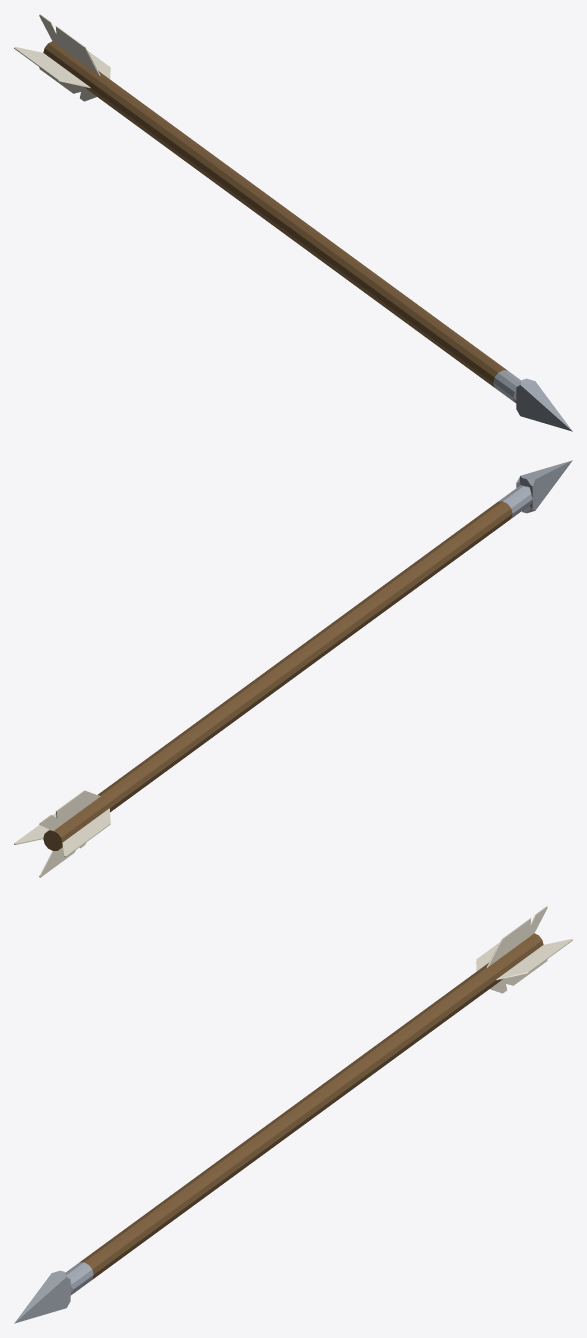
Rendered from Arrow.fbx.
3 renders of one model, top to bottom at view 1: azimuth 30°, elevation 25°; view 2: azimuth 150°, elevation 25°; view 3: azimuth 330°, elevation 25°, orthographic.
Parts seen in each view (by area): view 1: Arrow 0; view 2: Arrow 0; view 3: Arrow 0.
Boxes of the visible parts, <box> form: Arrow 0: <box>14,14,572,431</box>; Arrow 0: <box>14,460,572,877</box>; Arrow 0: <box>14,906,572,1323</box>.
Bounding box in the file's own units: 0.0439 × 0.0439 × 0.7778.
